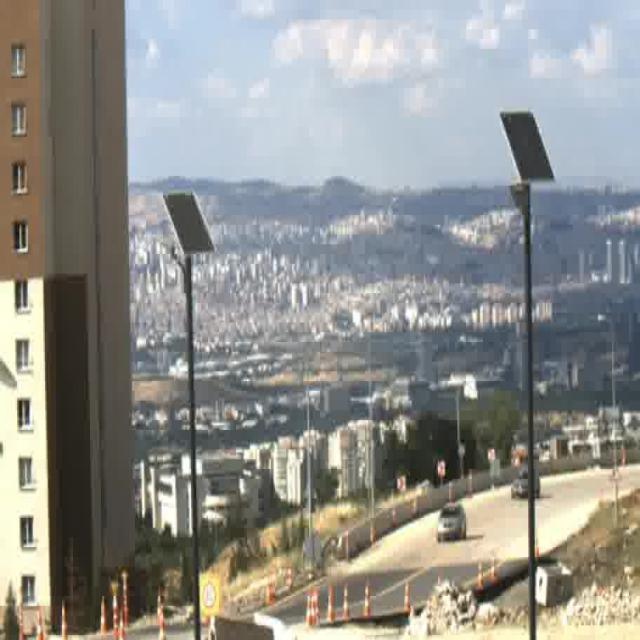Car: (436, 503, 466, 542), (511, 468, 540, 499)
